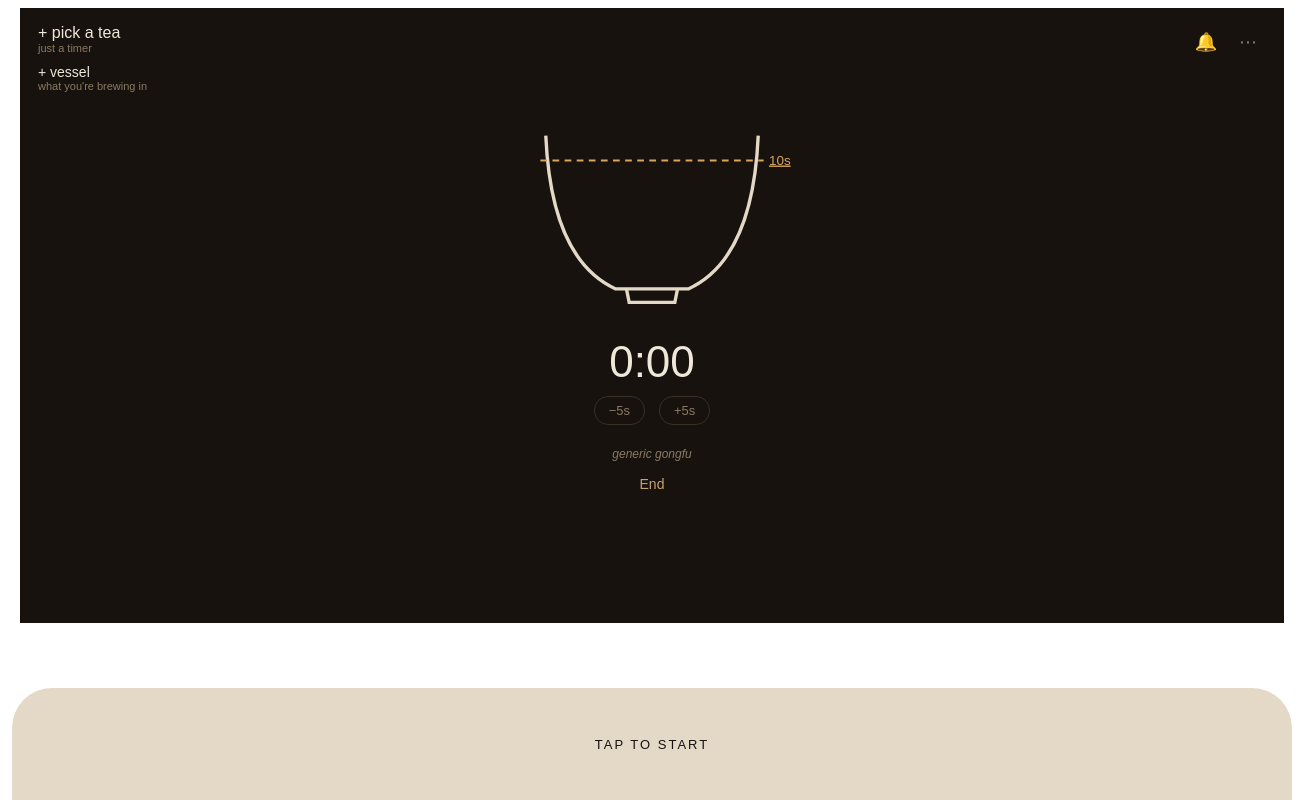
Test case: TimerPage › starts and stops a steep from the band
Click the button with test id "timer-band" at (652, 744), box [12, 688, 1292, 799]
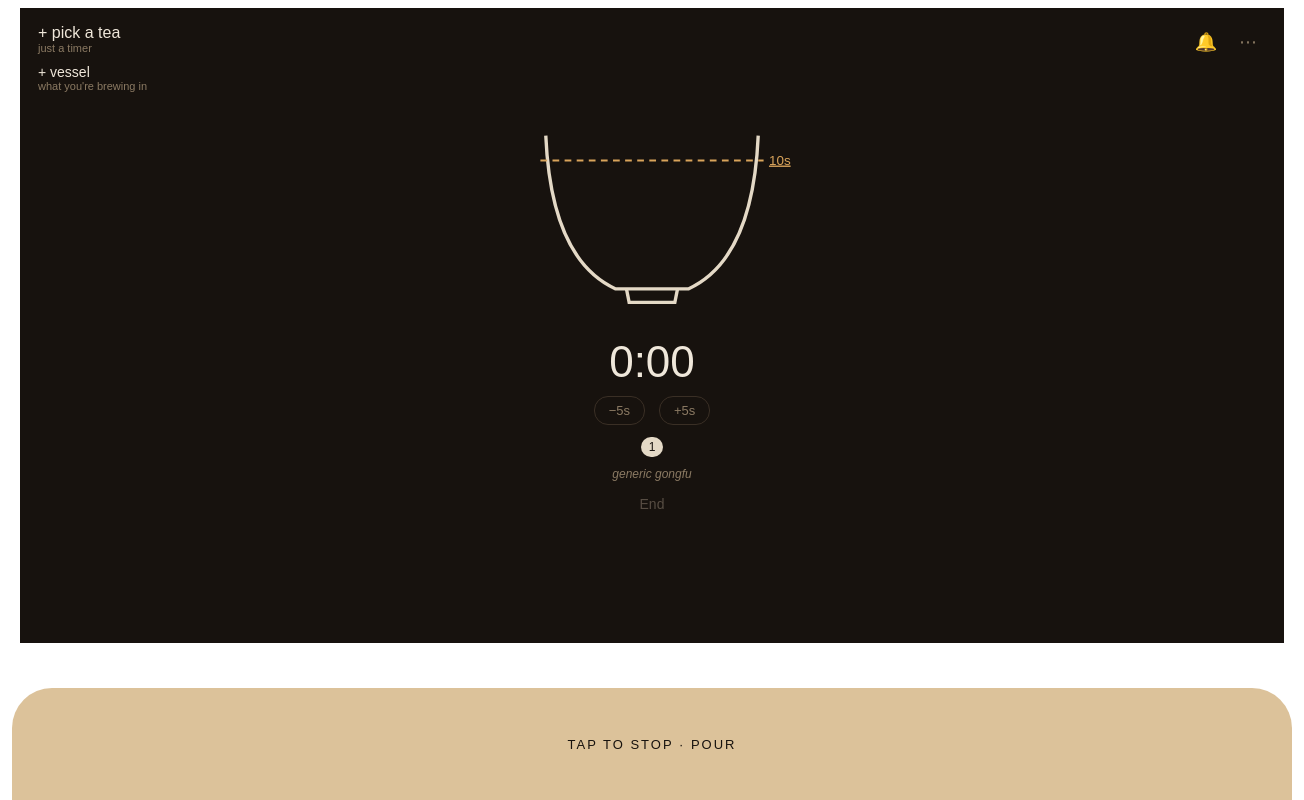
expect the button with test id "timer-band" shows "tap to stop": met
Click the button with test id "timer-band" at (652, 744), box [12, 688, 1292, 799]
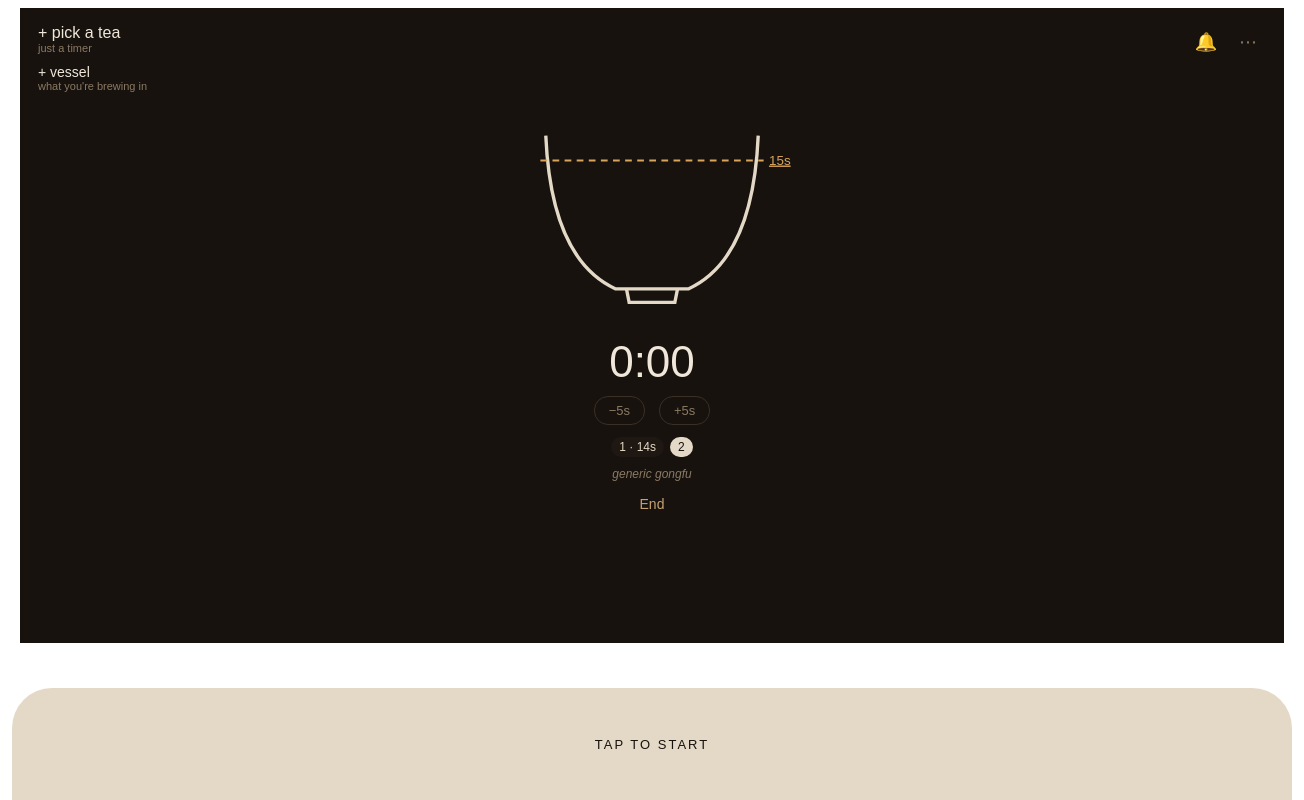
expect the button with test id "timer-chip-1" reads "1 · 14s": met, box [611, 437, 664, 457]
